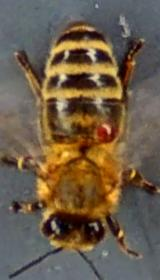varroa_mite: (83, 115, 119, 144)
